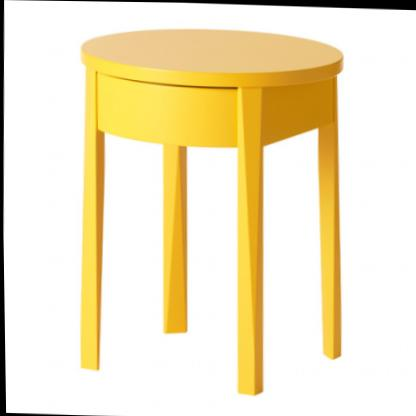Table: (67, 17, 354, 402)
